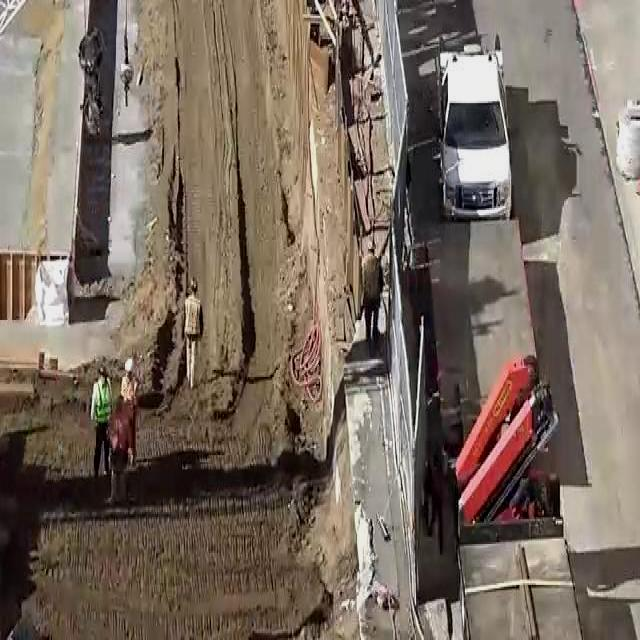helmet: (124, 358, 136, 372), (98, 364, 109, 376), (188, 278, 198, 290), (366, 240, 377, 249)
machinery: (450, 353, 562, 521)
person: (105, 396, 136, 504), (90, 364, 114, 481), (183, 276, 203, 390), (362, 240, 384, 342), (120, 357, 138, 467)
vehicle: (435, 33, 515, 221)
vest: (111, 412, 129, 452), (94, 383, 112, 421), (186, 298, 200, 334), (121, 377, 138, 402)
